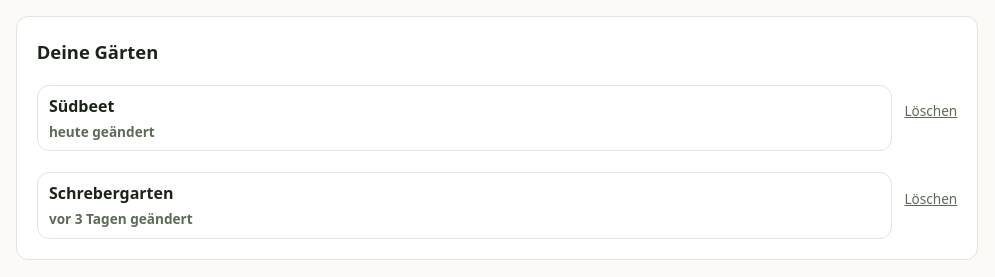
it: MyGardens › asks before deleting
// A garden cannot be got back. One click away from gone is one too few.
Click the button with aria-label "Südbeet löschen" at (931, 111), box top-left (904, 100), bottom-right (957, 122)
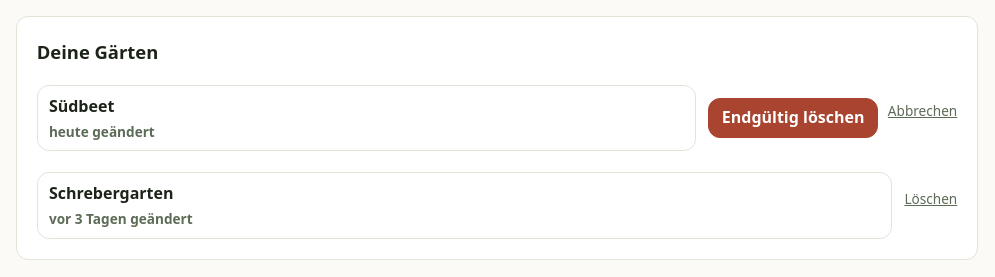
Now the button "Endgültig löschen" is shown, box top-left (708, 98), bottom-right (878, 138)
